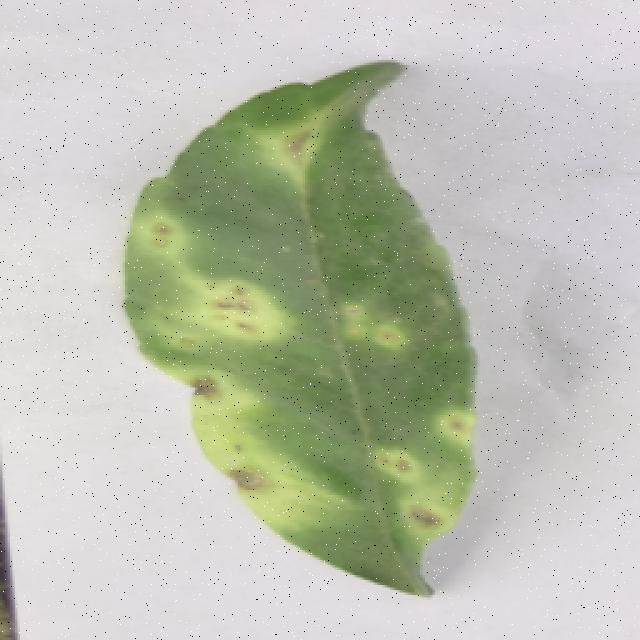canker: (122, 60, 482, 589)
